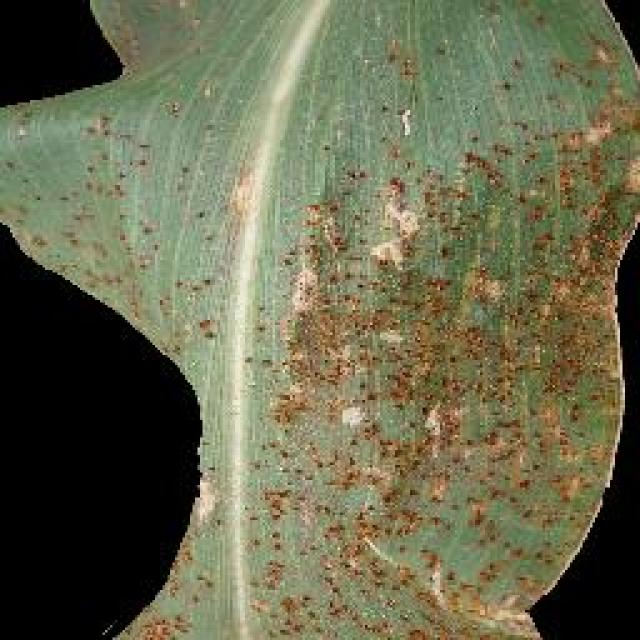Corn Common Rust: (184, 43, 558, 575)
